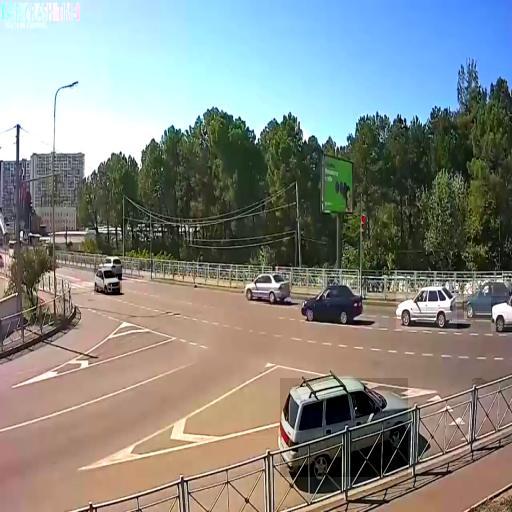小汽车: (280, 378, 408, 477), (300, 281, 366, 326), (396, 284, 457, 330), (464, 281, 509, 319), (244, 272, 291, 304), (94, 266, 122, 295), (491, 296, 512, 331)
